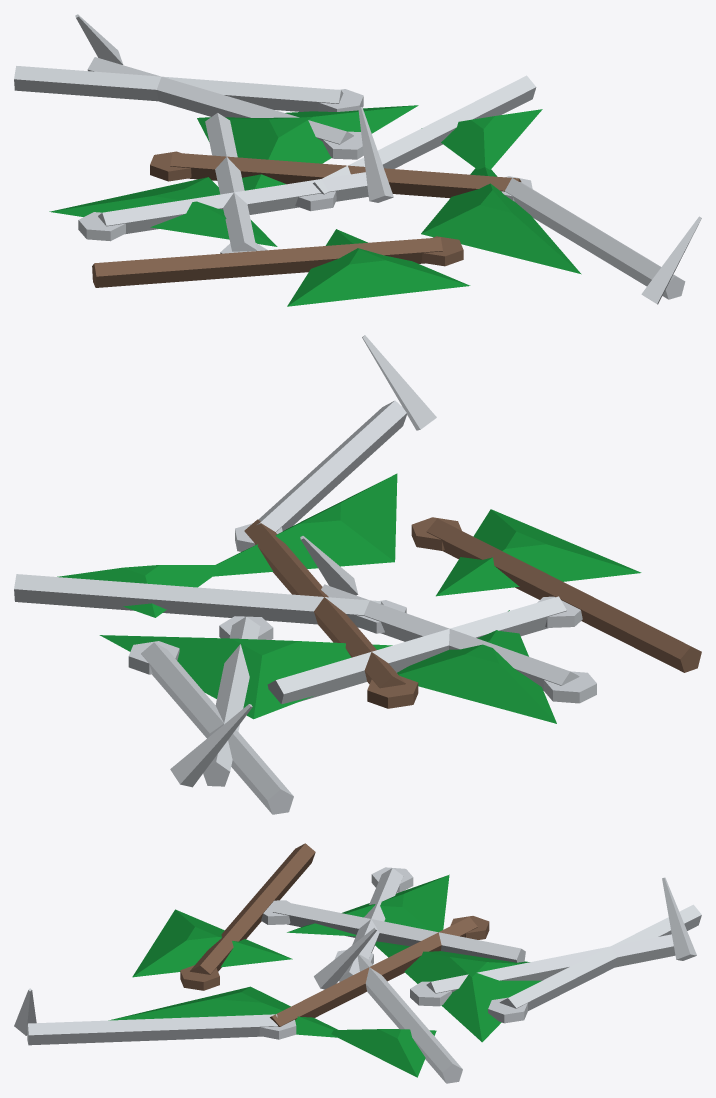
File: clavos.obj
3 views of the same model, one above another, from view 1: azimuth 30°, elevation 25°; view 2: azimuth 150°, elevation 25°; view 3: azimuth 270°, elevation 25° (orthographic). The views are drawn at different scales.
Parts seen in each view (by area): view 1: Peligro_ClavosYVidrio; view 2: Peligro_ClavosYVidrio; view 3: Peligro_ClavosYVidrio.
Part boxes in pixels (left/top/right/bottom): Peligro_ClavosYVidrio: left=14, top=14, right=701, bottom=306; Peligro_ClavosYVidrio: left=14, top=335, right=701, bottom=814; Peligro_ClavosYVidrio: left=14, top=843, right=701, bottom=1083.
Size of the model in its own units: 0.1376 by 0.0191 by 0.1788.
